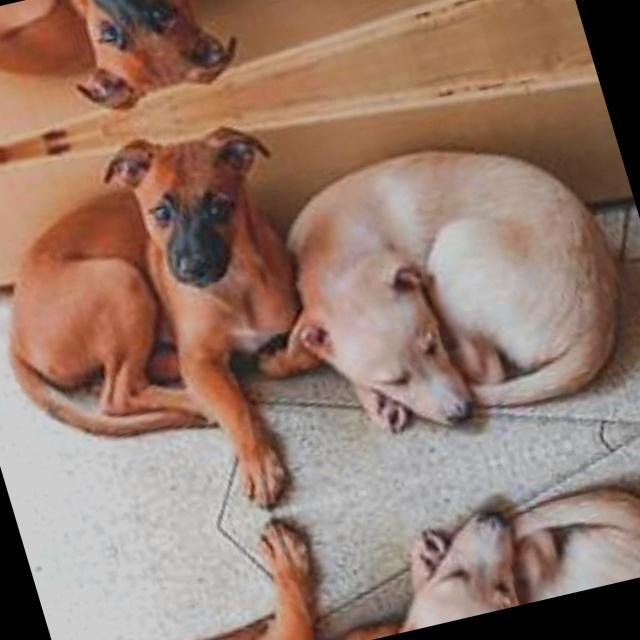dog: (273, 118, 640, 492), (0, 125, 343, 454), (363, 424, 640, 632), (0, 0, 247, 127), (135, 588, 414, 640)
